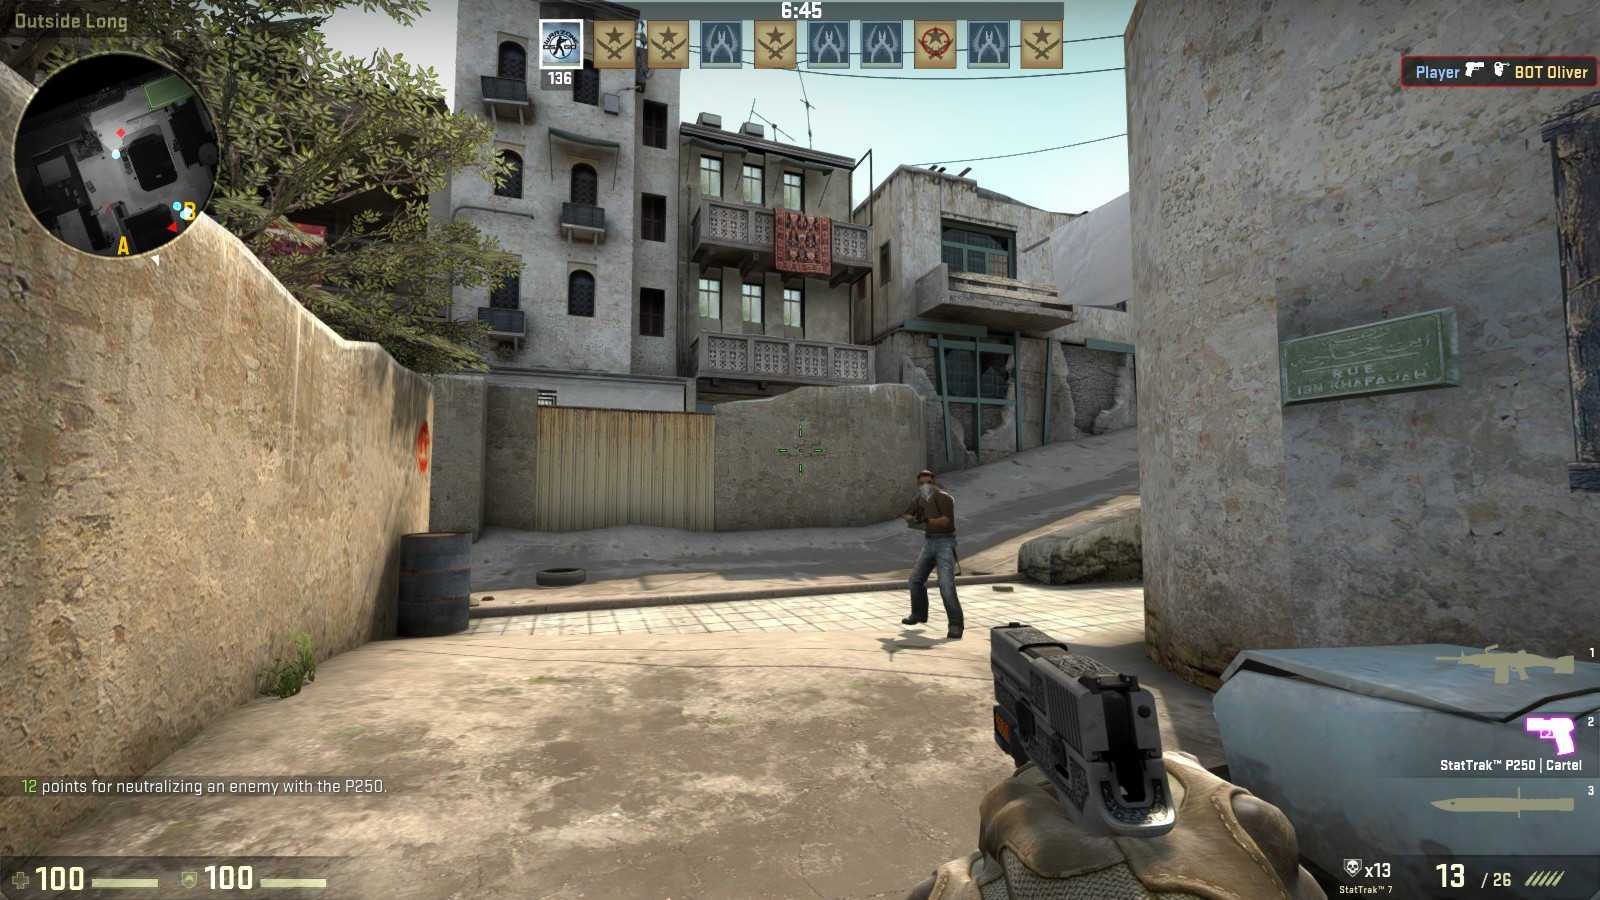t: (901, 469, 966, 638)
th: (916, 468, 938, 498)
